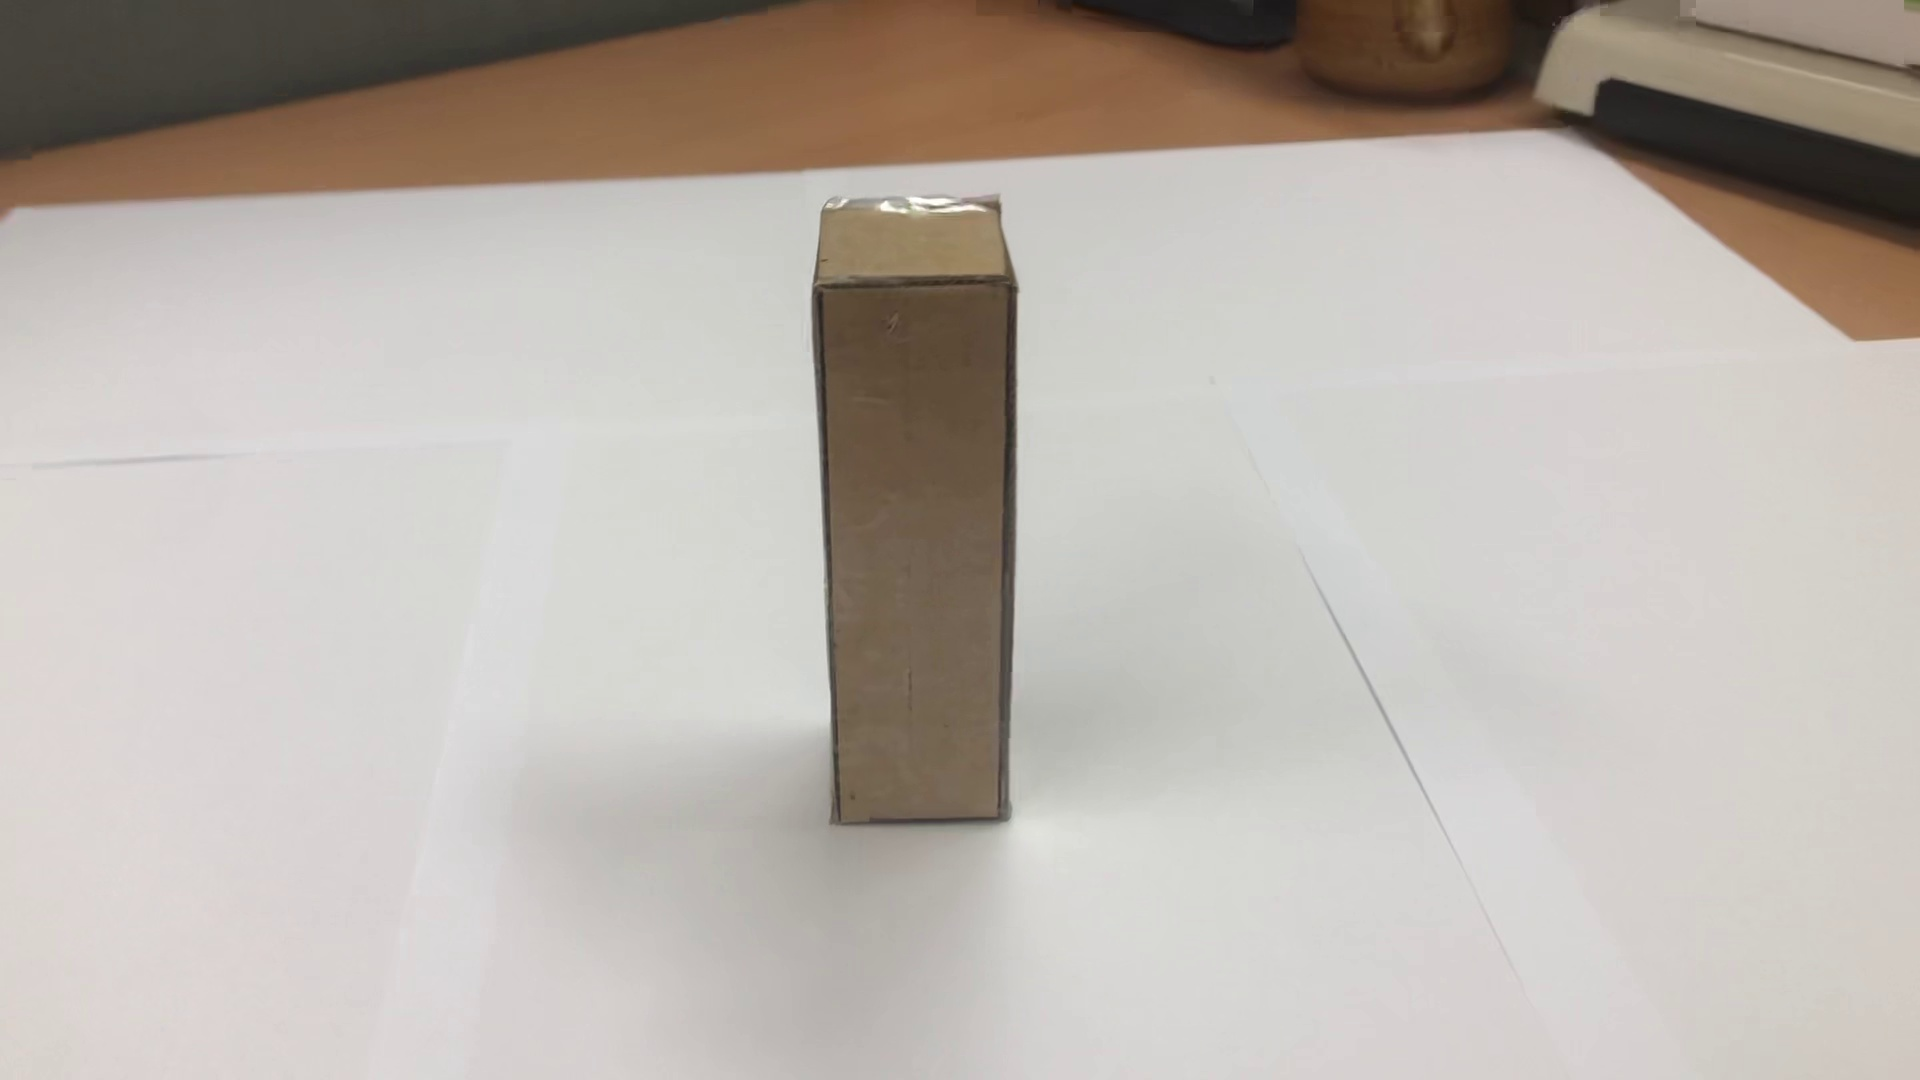box: (793, 173, 1051, 852)
